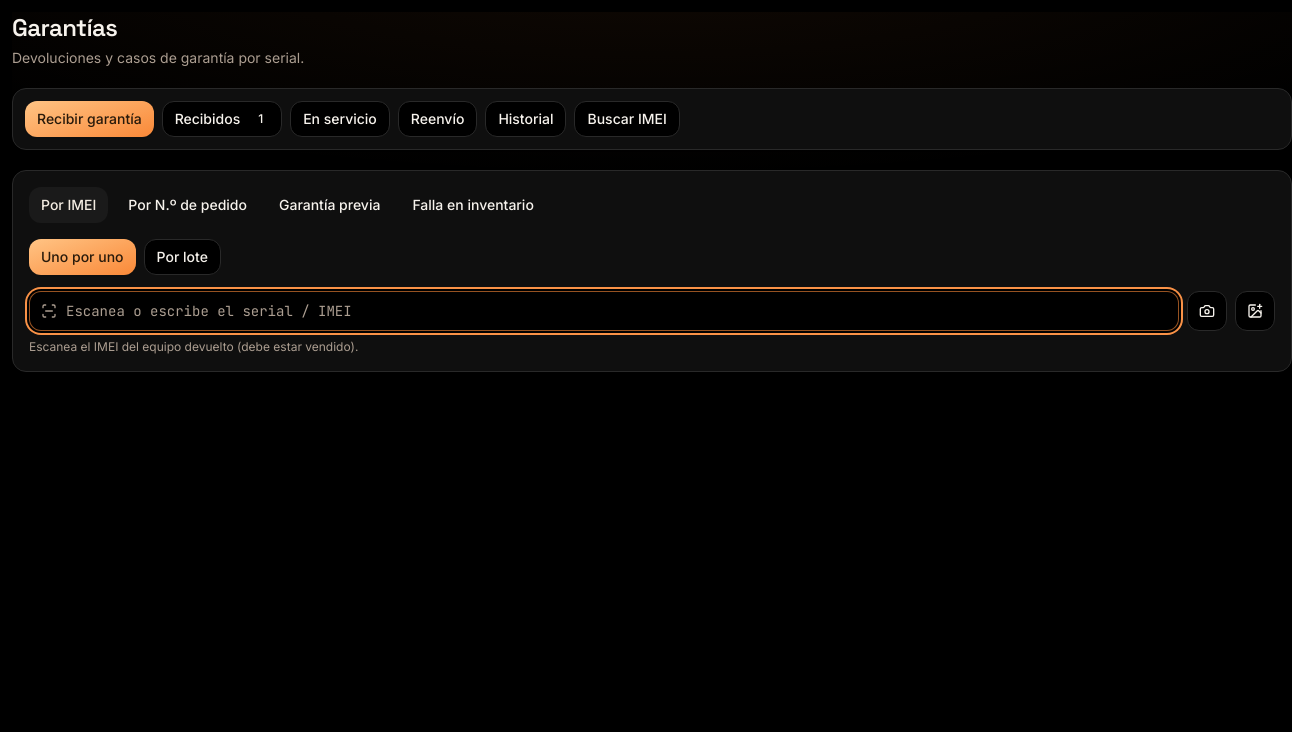
Scenario: Garantía previa · celular apagado, sin IMEI legible › el botón "Apagado / sin IMEI" llena el campo con un código generado válido
The image size is (1292, 732).
Step 1. Click the button "Garantía previa" → (330, 205), box [267,187,392,223]
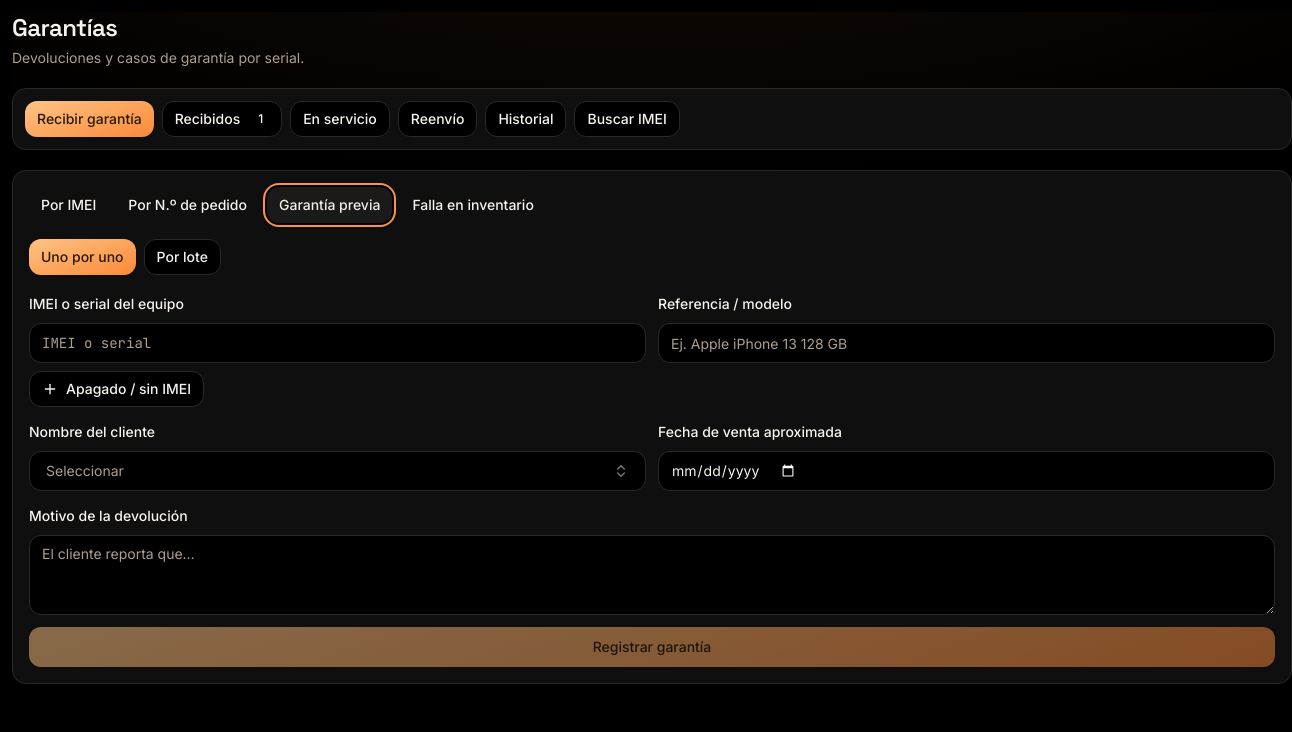
Step 2. Click the button "Apagado / sin IMEI" → (117, 389), box [29,371,204,407]
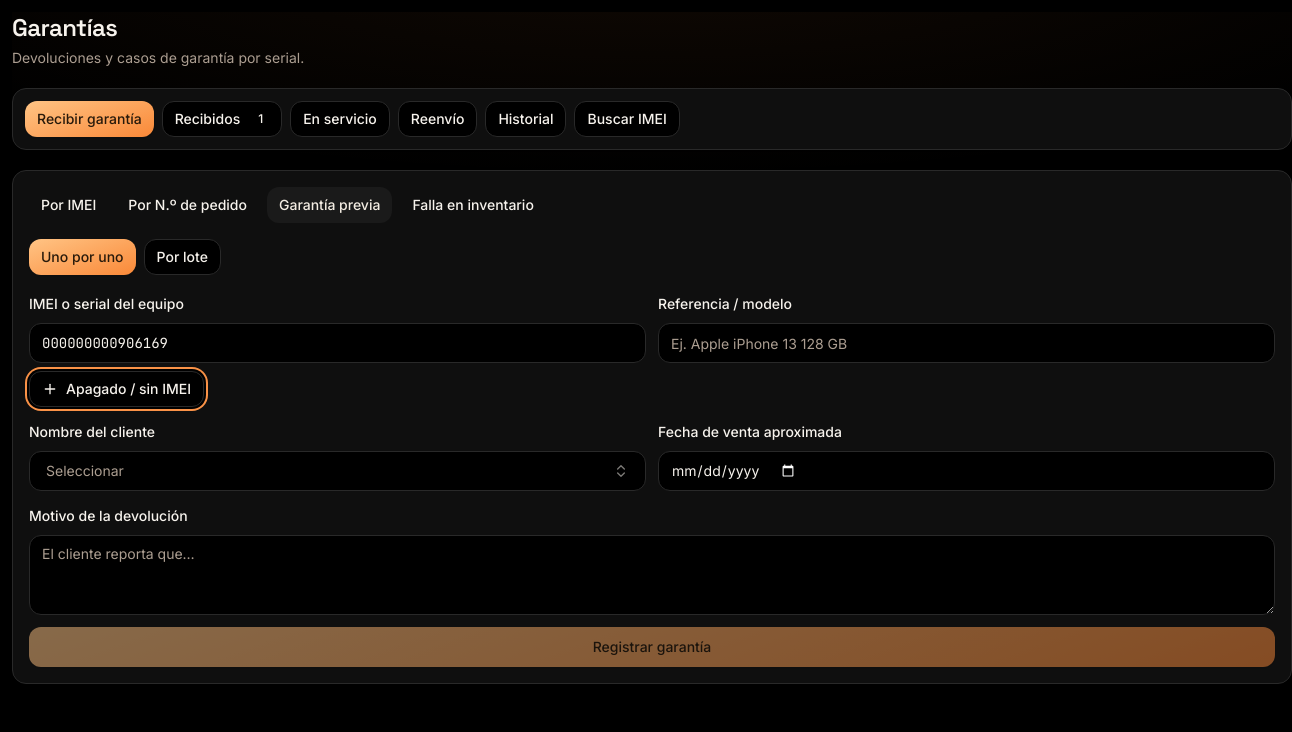
expect the field with placeholder "IMEI o serial" is not empty: met, box [29,323,646,363]
